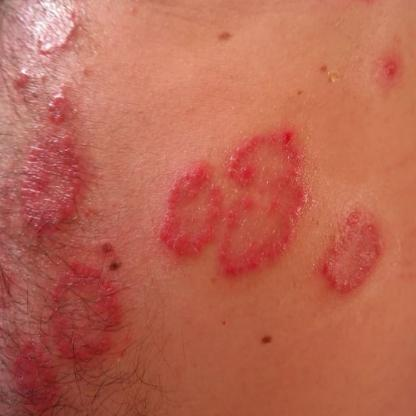Psoriasis: (219, 112, 307, 296), (7, 126, 92, 248), (44, 255, 124, 367), (146, 161, 228, 263), (319, 201, 394, 312), (5, 334, 65, 416), (27, 2, 97, 60)
